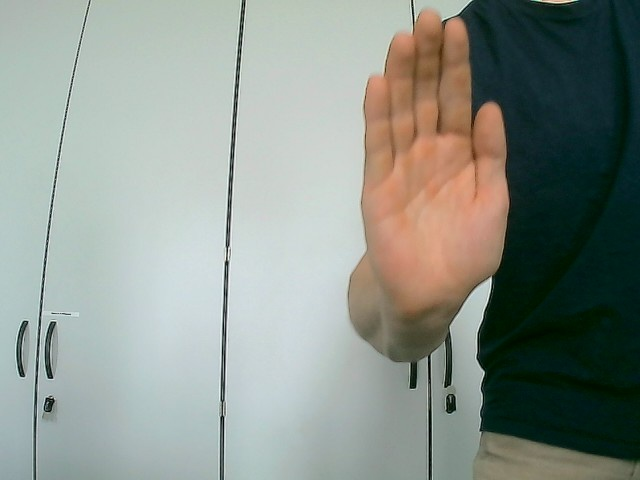stop: (357, 7, 511, 322)
